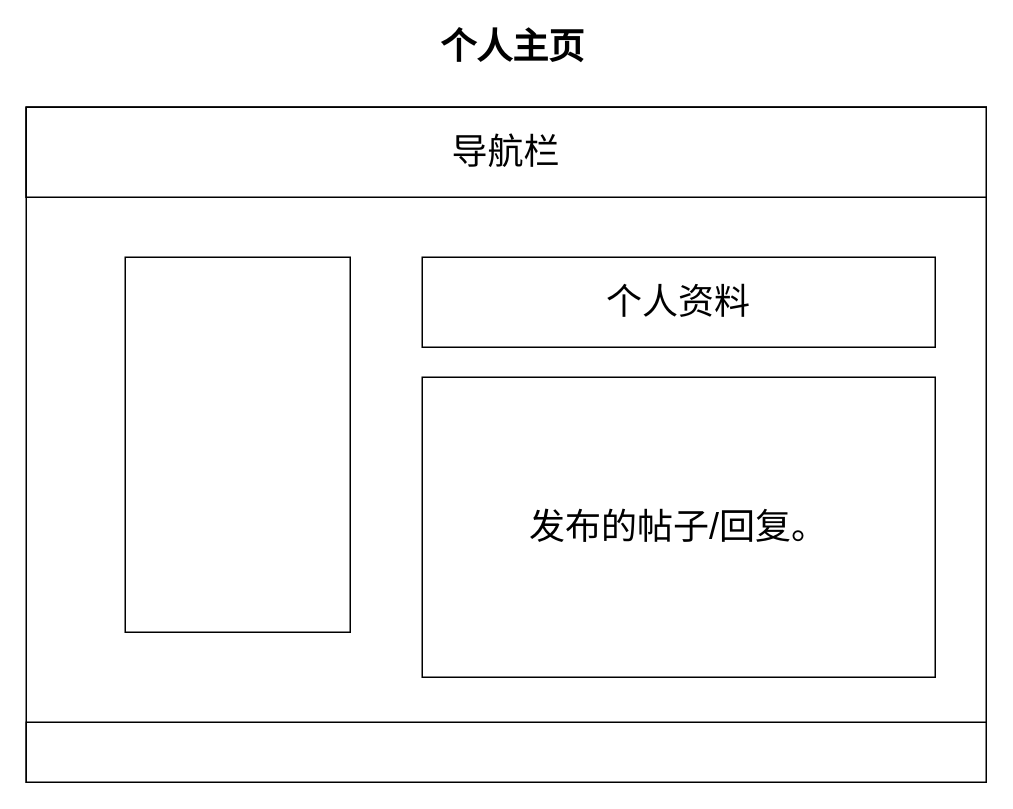
The diagram is 1013 pixels wide and 809 high, and some of its shapes have lost their labels. Each missing label, with the centre of its shape:
"个人资料： 1. 个人简介 2. 注册时间 3.最后活跃" goes at [237,444].
"尾部" goes at [505,751].
